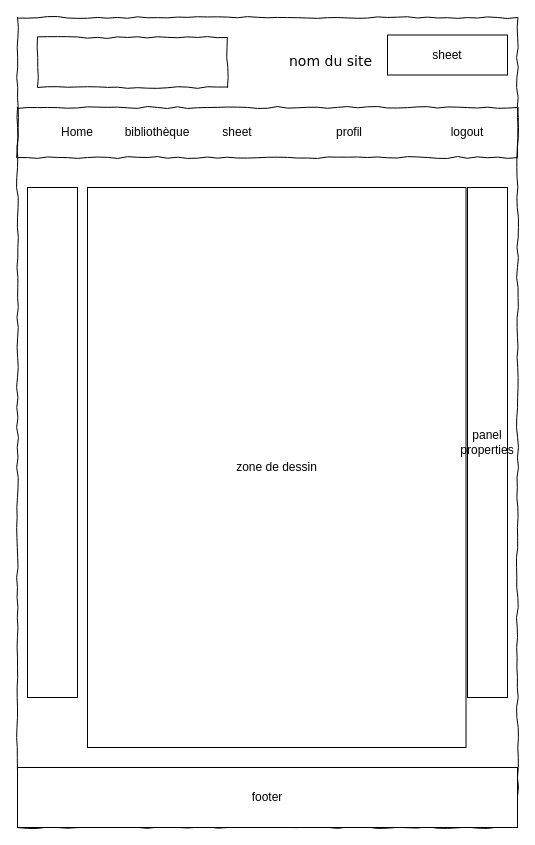
Some shapes in this 535 by 845 pixel diagram are drawn without their labels. Here are the shapes that lost their labels. From the top down, the centre of each, then its label:
(x=132, y=62): LOGO
(x=52, y=442): icone des forme
